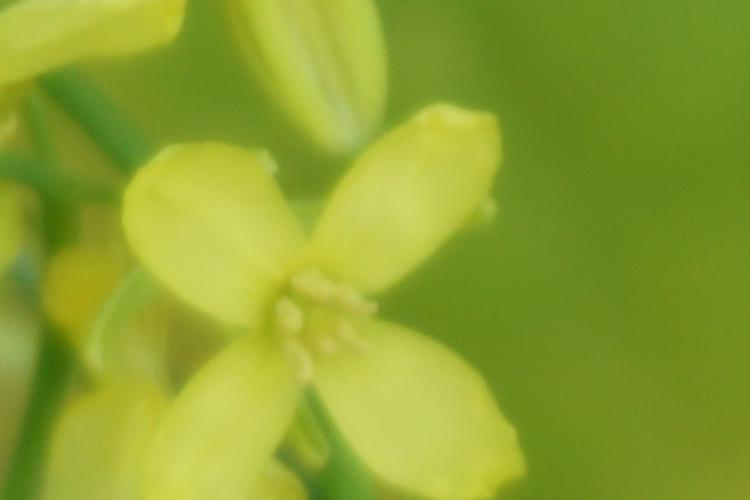bud: (221, 1, 389, 148)
yellow: (117, 119, 531, 488)
